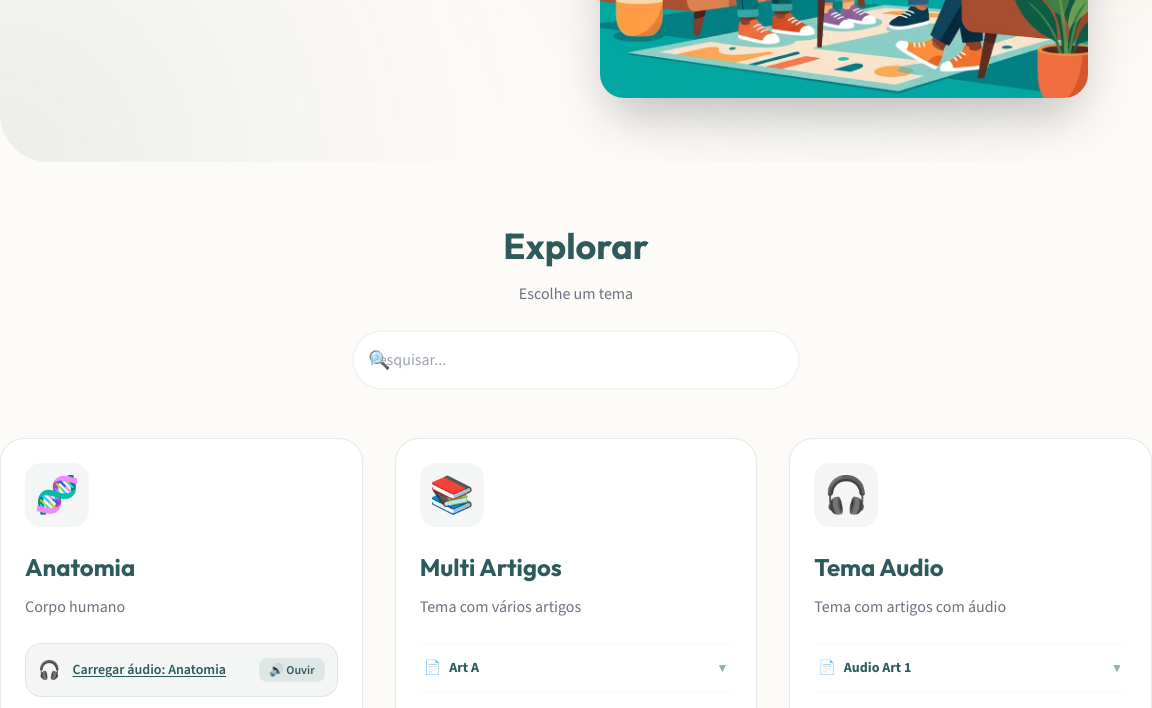
Test: HomeTab › closes other topics on search
This screenshot has width=1152, height=708.
(page scrolled)
Expected: the heading "Anatomia" is shown, [25,552,135,582]
Type "Anatomia" into the search field with placeholder "Pesquisar..." at (576, 360), box [352,330,800,390]
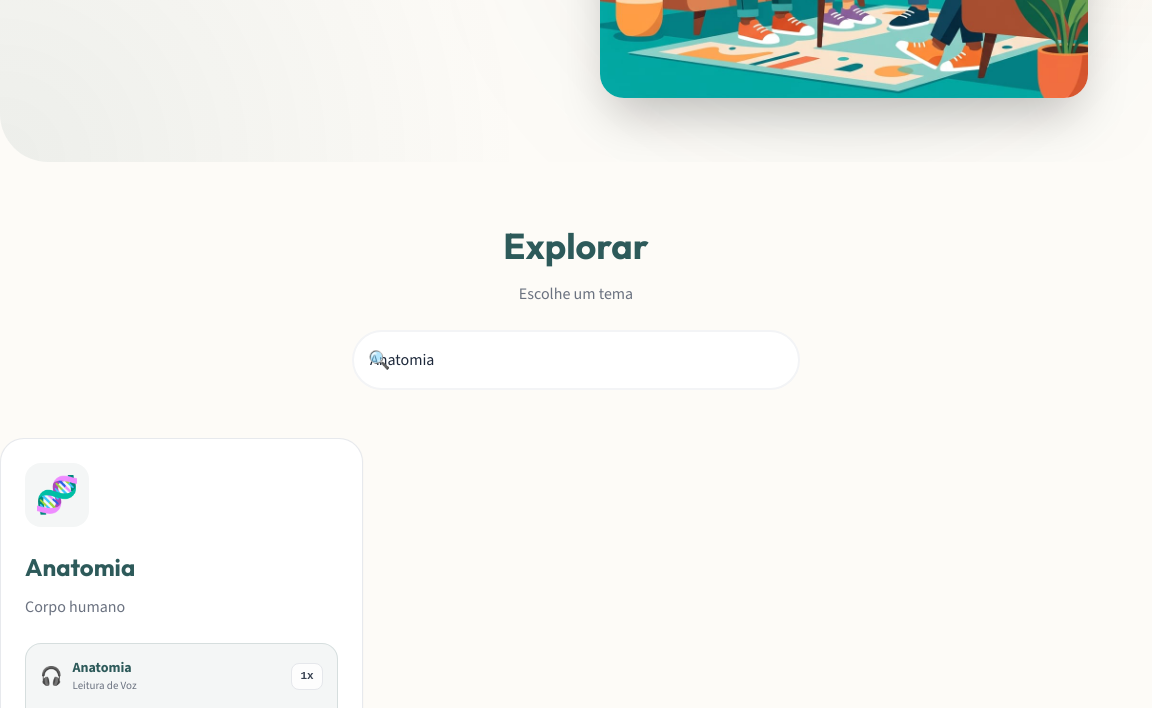
Expected: the heading "Anatomia" is shown, [25,552,135,582]
Now the heading "Multi Artigos" is gone
